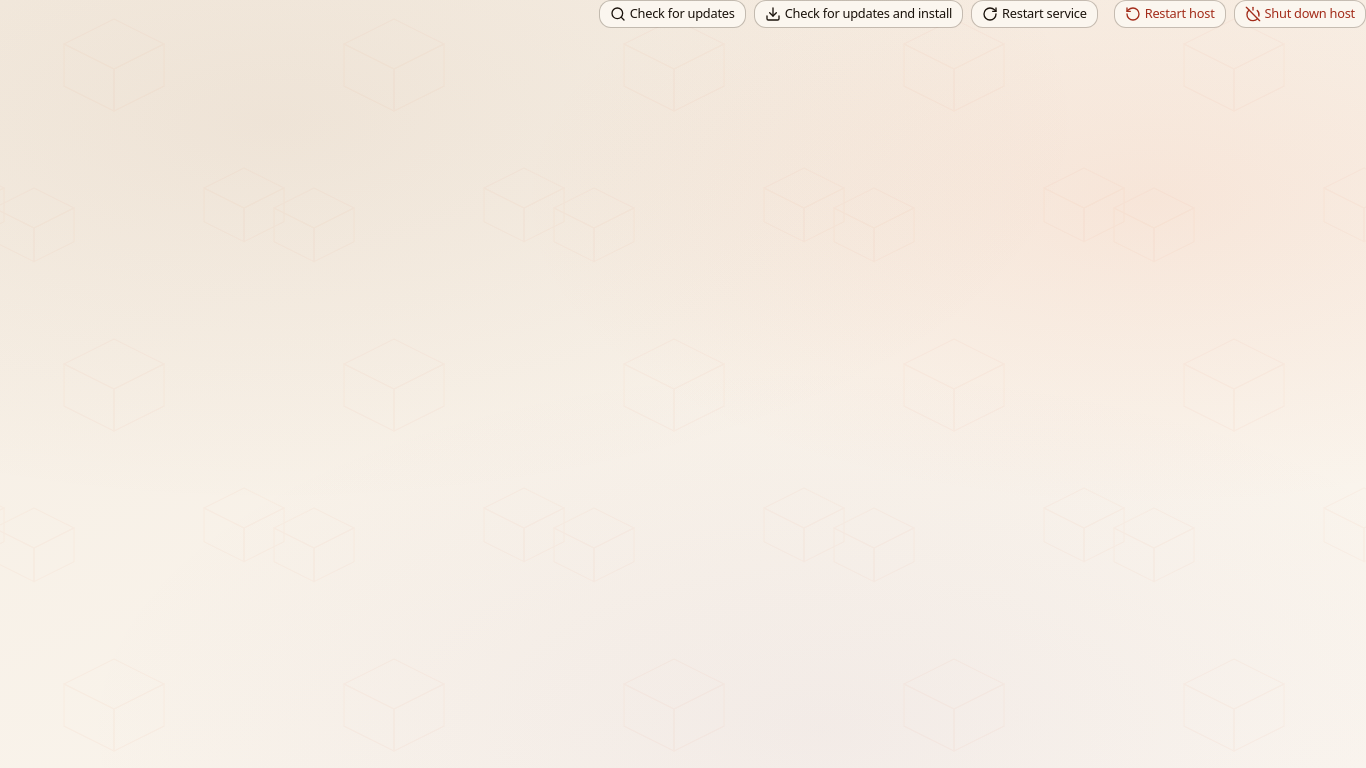
HostActions: one dialog per action › Check for updates and install: title, description, box, the two lines, the typed field, the confirm
Click the button "Check for updates and install" at (858, 14), box left=754, top=0, right=963, bottom=28
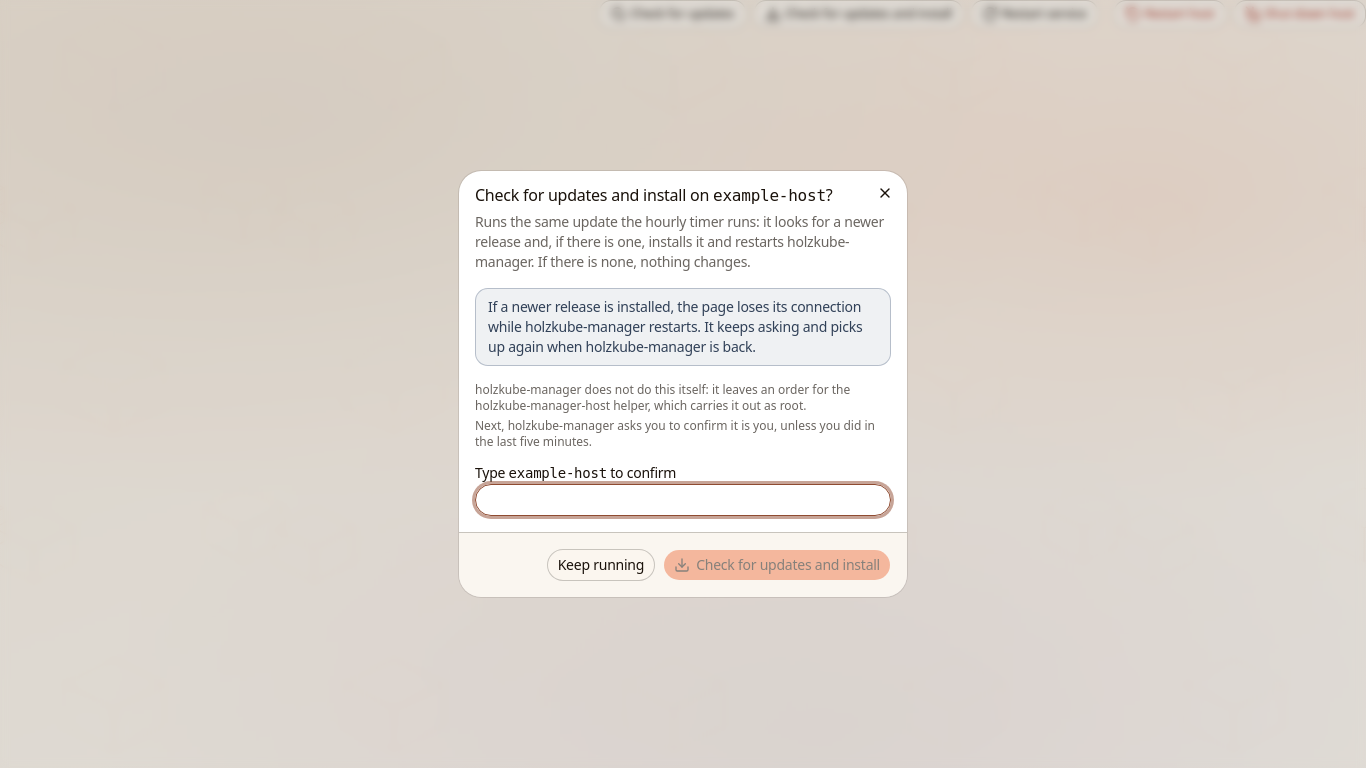
Check: the dialog shows "Runs the same update the hourly timer runs: it looks for a newer release and, if there is one, installs it and restarts holzkube-manager. If there is none, noth", box left=475, top=212, right=884, bottom=271
Check: the text "leaves an order for the holzkube-manager-host helper" is shown, box left=475, top=381, right=850, bottom=414
Check: the text "asks you to confirm it is you" is shown, box left=475, top=417, right=875, bottom=450
